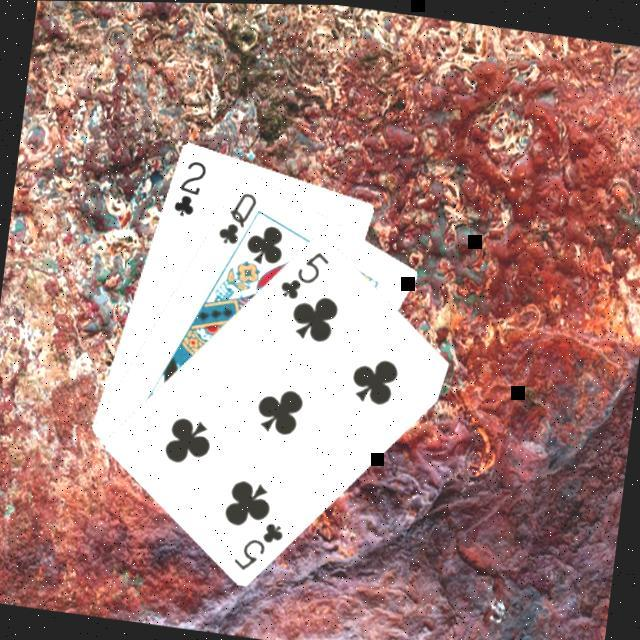2C: (170, 154, 211, 221)
5C: (276, 243, 335, 308), (231, 515, 290, 579)
QC: (214, 185, 262, 251)
